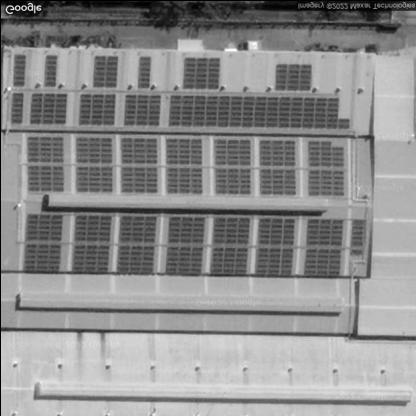solar-pv-panel: (169, 95, 350, 128), (115, 214, 158, 272), (210, 217, 251, 275), (72, 213, 113, 270), (166, 215, 206, 273), (303, 219, 344, 275), (23, 214, 62, 272), (256, 219, 296, 274), (121, 136, 160, 192), (25, 136, 64, 190), (212, 138, 251, 192), (307, 139, 344, 195), (74, 135, 111, 189), (166, 137, 203, 191), (258, 141, 295, 192), (76, 91, 115, 124), (124, 90, 161, 124), (183, 58, 221, 90), (29, 93, 67, 122), (273, 63, 312, 89), (92, 50, 119, 86), (350, 220, 365, 252), (43, 53, 57, 84), (136, 55, 150, 86), (13, 53, 26, 83), (11, 93, 23, 120)
